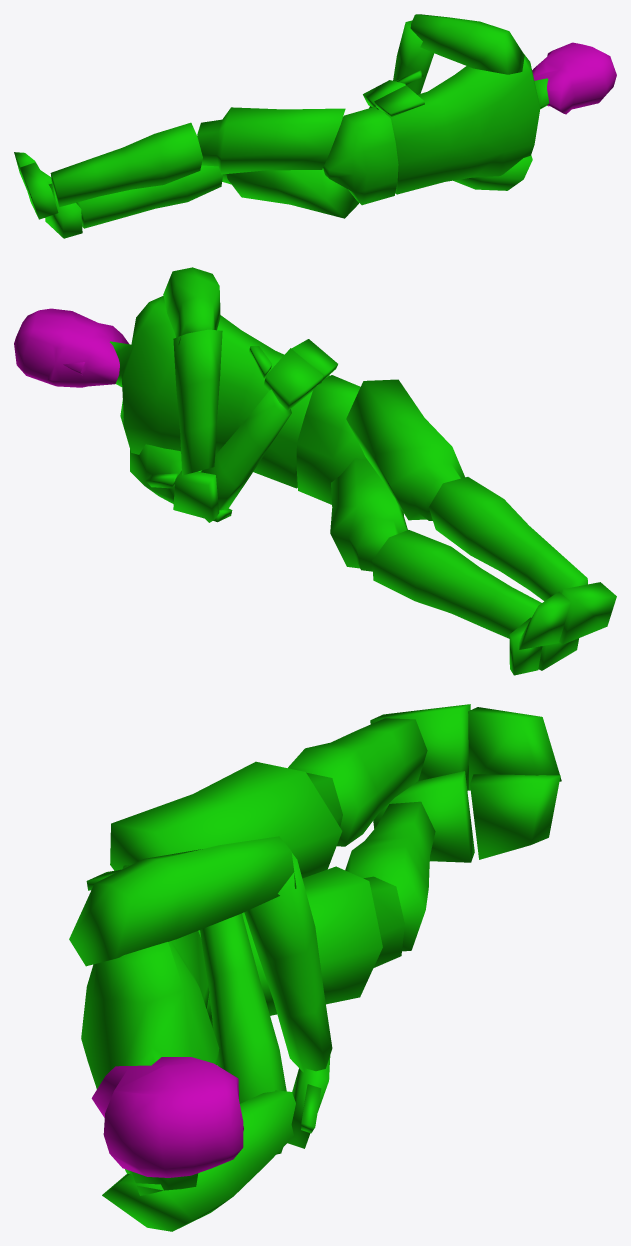
The model's file is SleepCharacter.FBX.
3 views of the same model, one above another, from view 1: azimuth 30°, elevation 25°; view 2: azimuth 150°, elevation 25°; view 3: azimuth 270°, elevation 25° (orthographic). The views are drawn at different scales.
Parts seen in each view (by area): view 1: Body, Head; view 2: Body, Head; view 3: Body, Head.
Part boxes in pixels (x1=…): Body: x1=14, y1=14, x2=549, y2=238; Head: x1=532, y1=42, x2=616, y2=114; Body: x1=110, y1=267, x2=616, y2=675; Head: x1=14, y1=308, x2=128, y2=387; Body: x1=69, y1=704, x2=561, y2=1231; Head: x1=91, y1=1057, x2=243, y2=1177.
Bounding box in the file's own units: 1.87 × 0.579 × 0.7594.
